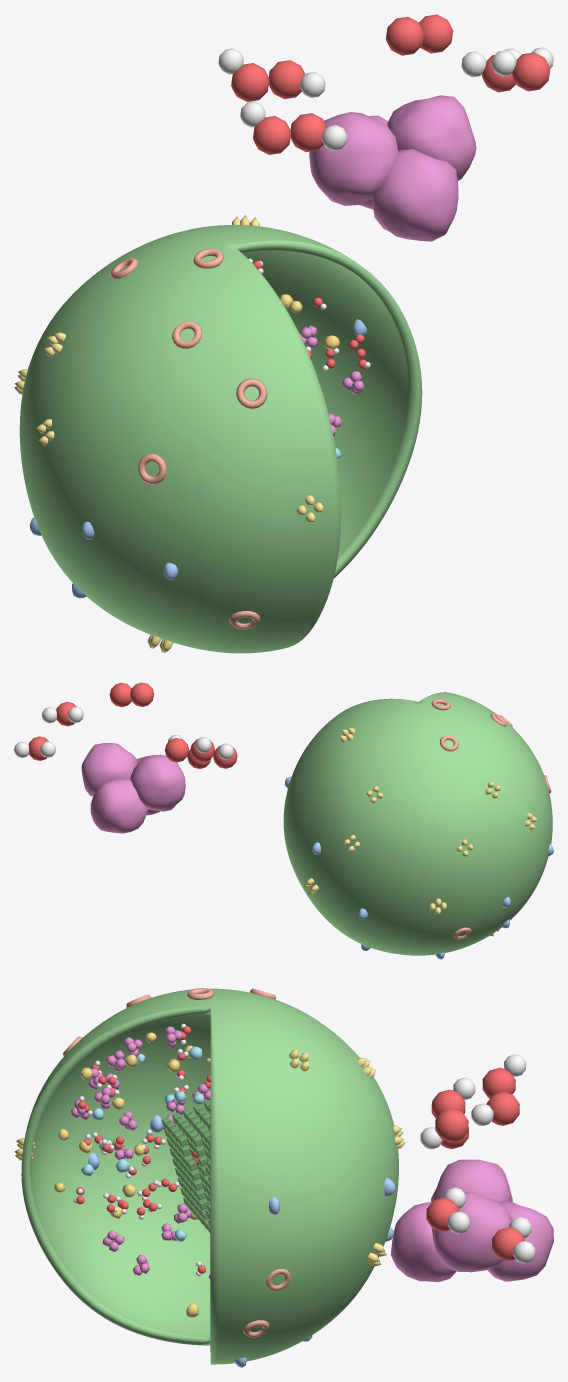
The model's file is peroxisome.glb.
3 renders of one model, top to bottom at view 1: azimuth 30°, elevation 25°; view 2: azimuth 150°, elevation 25°; view 3: azimuth 270°, elevation 25°, orthographic. The views are drawn at different scales.
Parts seen in each view (by area): view 1: Peroxisomal Membrane, Catalase Tetramer (hero), H2O2 (hero Substrate) (×2), PEX2/10/12 Ring Ligases, O2 (hero Product), PEX14/PEX13 Docking Complexes, H2O (hero Product), H2O2 (hero Substrate).001 H, H2O2 (hero Substrate) H, ABCD Fatty-acid Transporters, Catalase; view 2: Peroxisomal Membrane, Catalase Tetramer (hero), H2O2 (hero Substrate) (×2), PEX14/PEX13 Docking Complexes, O2 (hero Product), PEX2/10/12 Ring Ligases, ABCD Fatty-acid Transporters, H2O (hero Product).001 H, H2O (hero Product) H; view 3: Peroxisomal Membrane, Catalase Tetramer (hero), Crystalline Core (urate oxidase), Catalase, H2O2 (hero Substrate), Oxidases, O2 (hero Product), H2O (hero Product) (×2), PEX2/10/12 Ring Ligases, PEX14/PEX13 Docking Complexes, H2O2 Molecules, Beta-oxidation Enzymes (+8 smaller).
Part boxes in pixels (<box>): Peroxisomal Membrane: <box>19,225,422,653</box>; Catalase Tetramer (hero): <box>309,95,476,241</box>; H2O2 (hero Substrate) (×2): <box>231,60,327,154</box>; PEX2/10/12 Ring Ligases: <box>111,248,267,629</box>; O2 (hero Product): <box>385,14,453,55</box>; PEX14/PEX13 Docking Complexes: <box>14,215,324,653</box>; H2O (hero Product): <box>512,52,550,91</box>; H2O2 (hero Substrate).001 H: <box>218,48,325,97</box>; H2O2 (hero Substrate) H: <box>240,101,347,150</box>; ABCD Fatty-acid Transporters: <box>29,319,366,598</box>; Catalase: <box>300,325,364,436</box>; Peroxisomal Membrane: <box>283,692,552,955</box>; Catalase Tetramer (hero): <box>81,743,185,833</box>; H2O2 (hero Substrate) (×2): <box>164,738,237,768</box>; PEX14/PEX13 Docking Complexes: <box>304,727,537,936</box>; O2 (hero Product): <box>109,682,154,707</box>; PEX2/10/12 Ring Ligases: <box>431,698,551,939</box>; ABCD Fatty-acid Transporters: <box>284,776,553,959</box>; H2O (hero Product).001 H: <box>14,741,55,757</box>; H2O (hero Product) H: <box>41,706,83,723</box>; Peroxisomal Membrane: <box>21,988,398,1364</box>; Catalase Tetramer (hero): <box>390,1159,553,1282</box>; Crystalline Core (urate oxidase): <box>161,1100,210,1232</box>; Catalase: <box>71,1026,210,1279</box>; H2O2 (hero Substrate): <box>482,1067,519,1125</box>; Oxidases: <box>54,1032,198,1317</box>; O2 (hero Product): <box>432,1089,468,1142</box>; H2O (hero Product) (×2): <box>426,1197,524,1261</box>; PEX2/10/12 Ring Ligases: <box>63,988,290,1337</box>; PEX14/PEX13 Docking Complexes: <box>14,1050,405,1266</box>; H2O2 Molecules: <box>76,1026,191,1215</box>; Beta-oxidation Enzymes: <box>81,1046,204,1241</box>.
Size of the model in its own units: 9.19 by 5.89 by 7.43.
